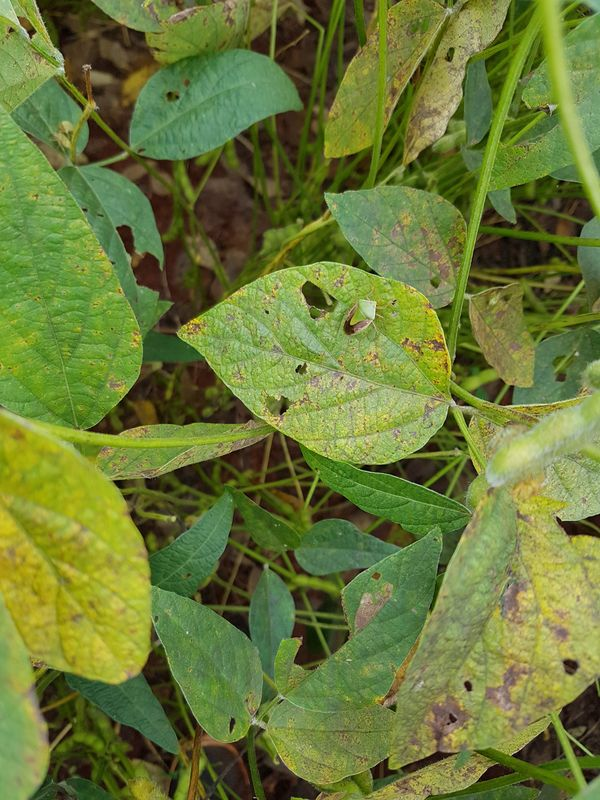Edessa_meditabunda: (331, 291, 397, 345)
